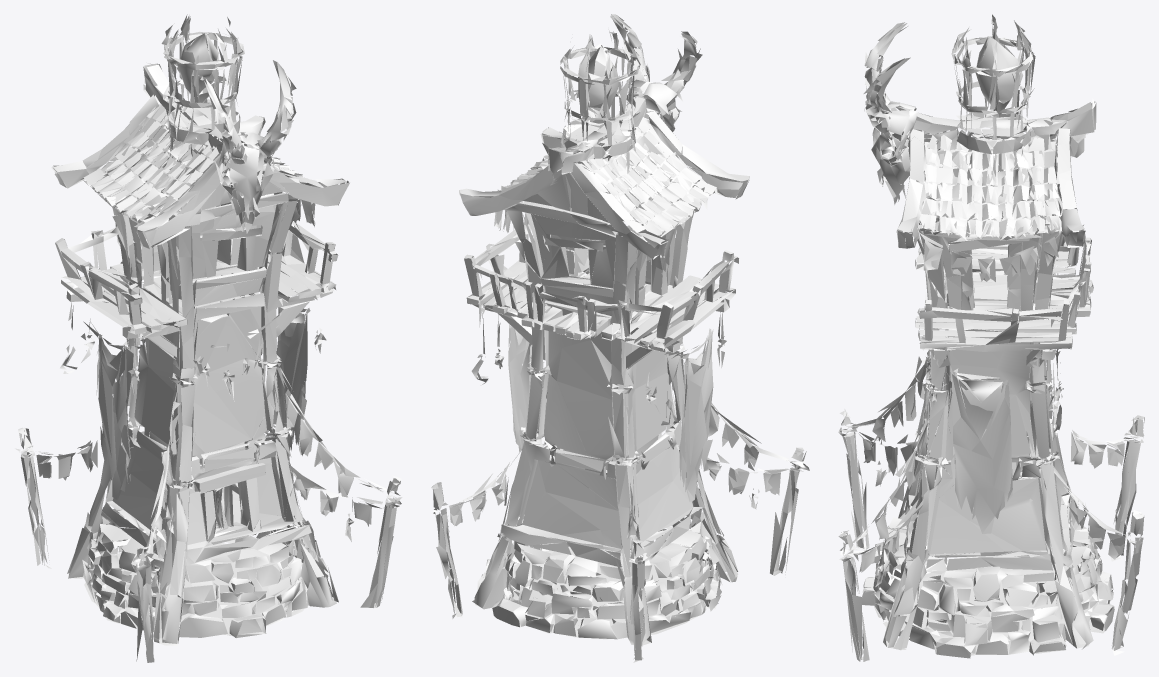
The model's file is shaman_tower_lod1.glb.
3 views of the same model, side by side, from view 1: azimuth 30°, elevation 25°; view 2: azimuth 150°, elevation 25°; view 3: azimuth 270°, elevation 25° (orthographic). The views are drawn at different scales.
Parts seen in each view (by area): view 1: shaman_tower; view 2: shaman_tower; view 3: shaman_tower.
Part boxes in pixels (box(x1,y1,x2,y2)): shaman_tower: box(15, 14, 402, 662); shaman_tower: box(431, 14, 809, 662); shaman_tower: box(838, 14, 1144, 661).
Size of the model in its own units: 8.88 by 18.11 by 8.6.
1 material, 1 textured.
